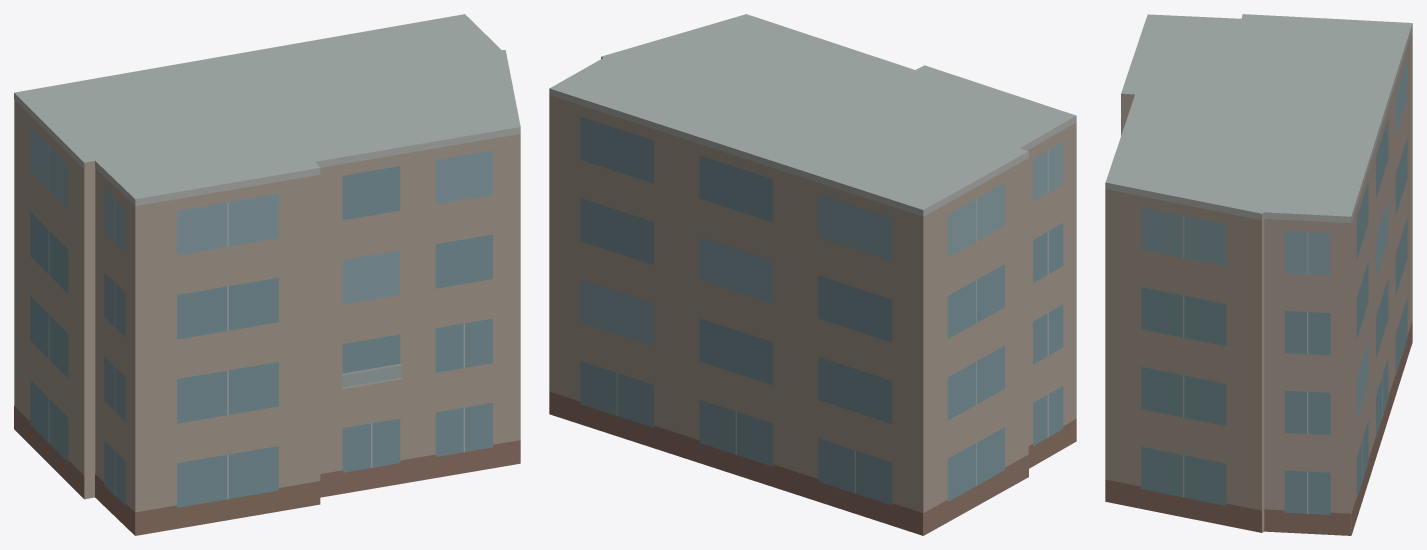
Rendered from survey-upis-32825231.glb.
The picture shows the model from 3 angles, left to right: view 1: azimuth 30°, elevation 25°; view 2: azimuth 150°, elevation 25°; view 3: azimuth 270°, elevation 25°; orthographic projection. The views are drawn at different scales.
Visible parts, largest first — view 1: survey-upis-32825231.tmp; view 2: survey-upis-32825231.tmp; view 3: survey-upis-32825231.tmp.
Boxes of the visible parts, left/top/right/bottom form: survey-upis-32825231.tmp: left=14, top=14, right=520, bottom=535; survey-upis-32825231.tmp: left=549, top=14, right=1076, bottom=535; survey-upis-32825231.tmp: left=1105, top=14, right=1412, bottom=535.
Bounding box in the file's own units: 16.21 × 11.9 × 10.39.
